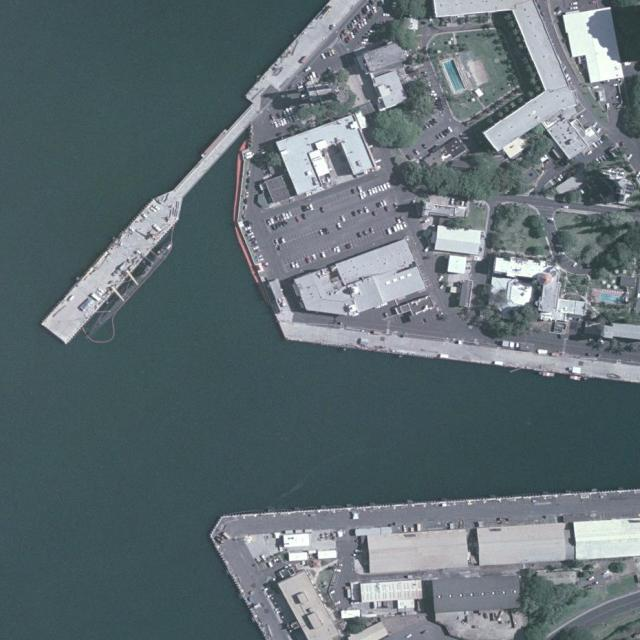Dock: (41, 109, 255, 343)
Submarine: (94, 239, 175, 328)
